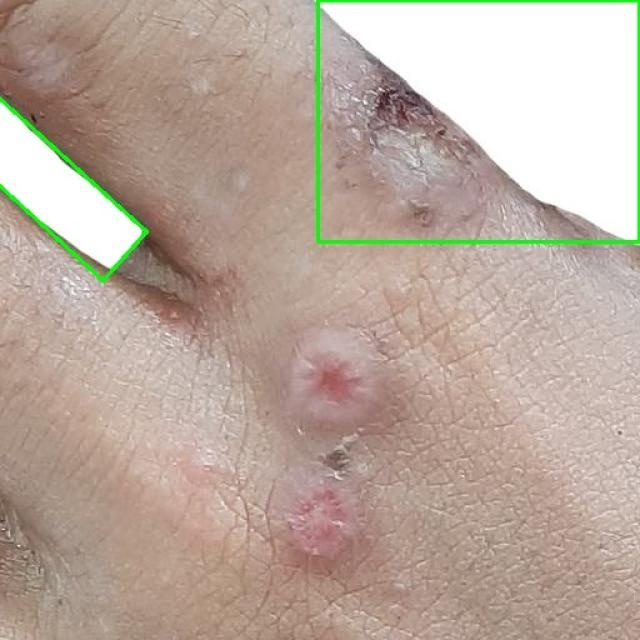Scabies: (318, 0, 639, 241), (0, 86, 152, 280)
